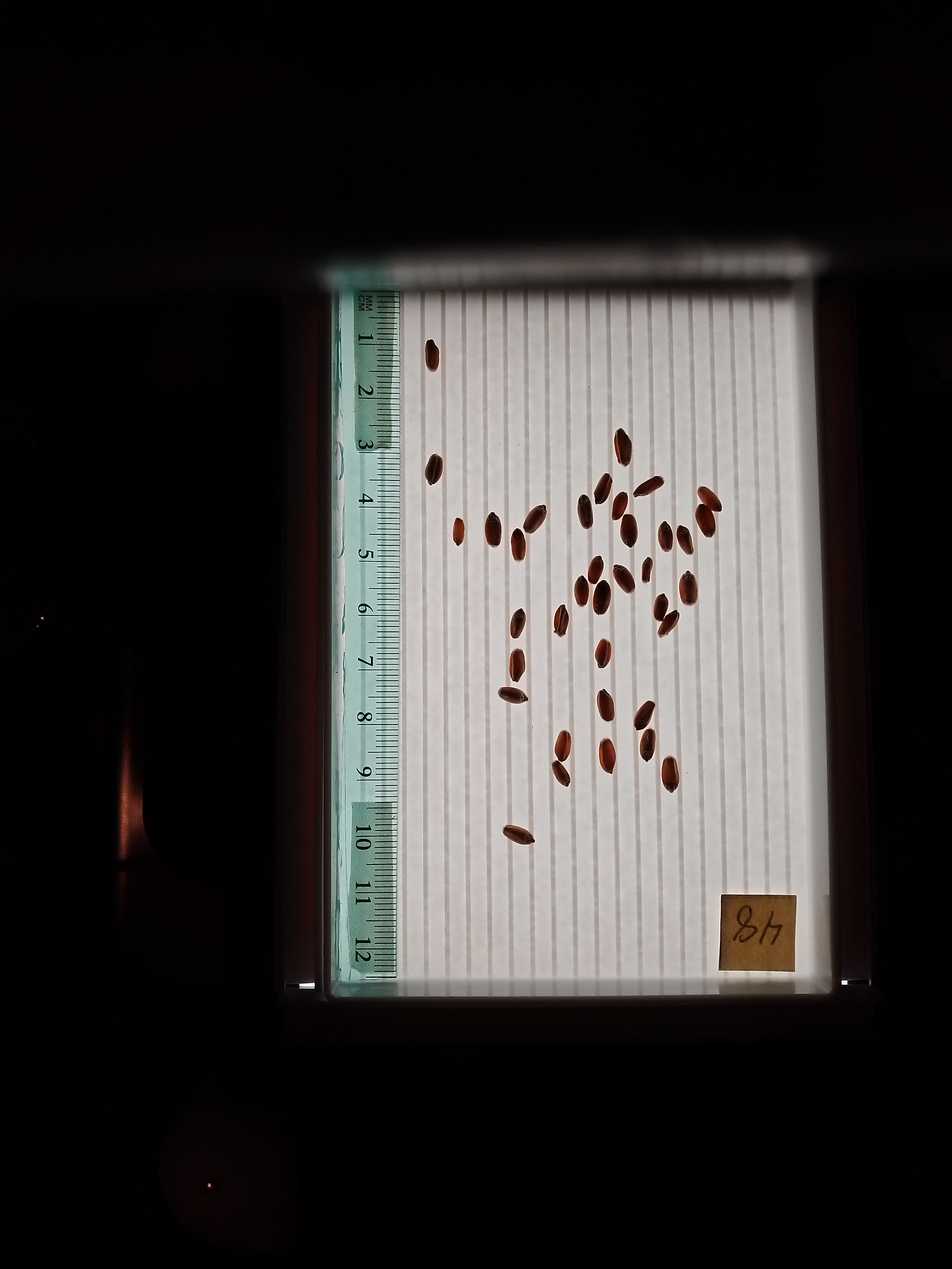seed mask: (503, 824, 534, 846), (614, 429, 632, 466), (661, 757, 680, 792), (696, 504, 716, 537), (524, 505, 546, 534), (698, 486, 722, 512), (634, 476, 663, 497), (679, 573, 698, 605), (614, 565, 635, 593), (599, 739, 616, 773), (593, 582, 611, 614), (594, 474, 612, 505), (658, 610, 679, 636), (485, 514, 502, 546), (621, 515, 638, 547), (634, 702, 654, 729), (509, 650, 526, 681), (425, 456, 443, 485), (577, 496, 593, 528), (598, 691, 615, 721), (499, 686, 527, 704), (511, 529, 526, 561), (658, 522, 674, 552), (555, 731, 571, 760), (574, 576, 589, 606), (554, 605, 569, 635), (552, 761, 570, 786), (640, 730, 655, 760), (677, 526, 693, 554), (425, 340, 439, 371), (510, 610, 526, 637), (596, 640, 611, 668), (612, 493, 628, 519), (654, 595, 669, 621), (588, 557, 603, 582), (453, 519, 465, 545), (641, 557, 653, 583)
